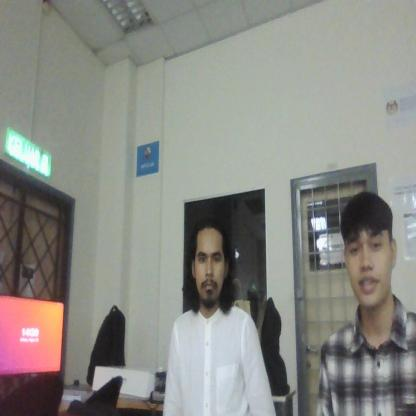Open-Eyes: (345, 222, 387, 258), (196, 244, 224, 270)
